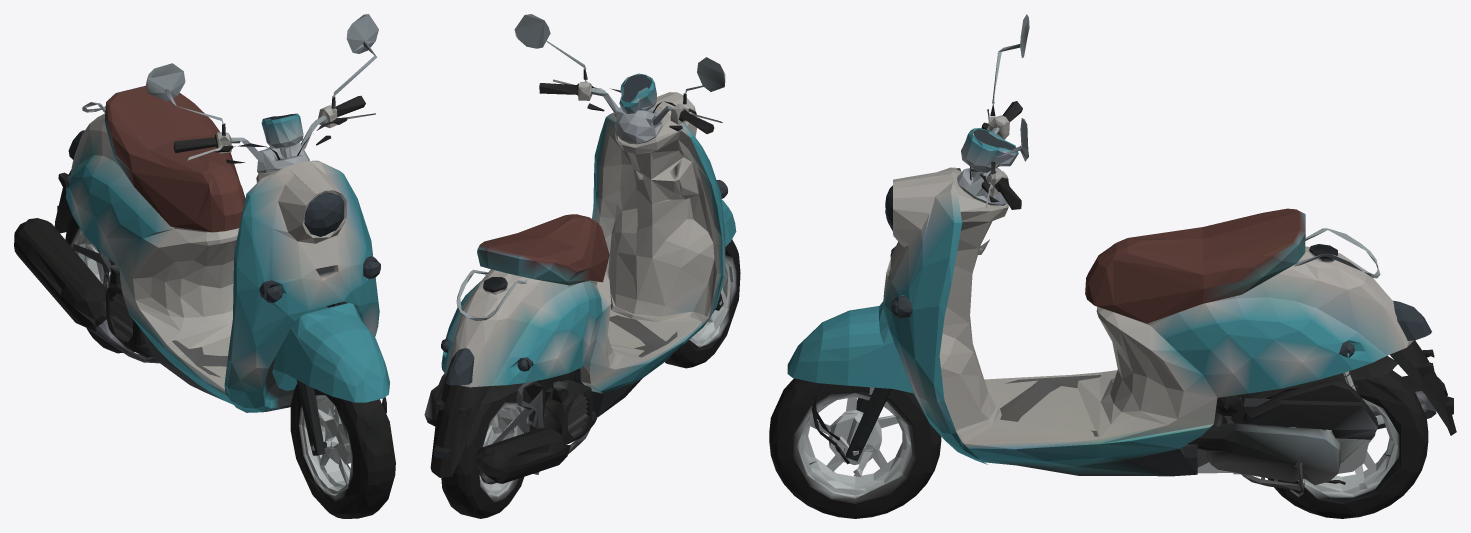
Rendered from vino.lod.glb.
3 renders of one model, left to right at view 1: azimuth 30°, elevation 25°; view 2: azimuth 150°, elevation 25°; view 3: azimuth 270°, elevation 25°, orthographic. The views are drawn at different scales.
Parts seen in each view (by area): view 1: lod_body, lod_glass; view 2: lod_body, lod_glass; view 3: lod_body, lod_glass.
Boxes of the visible parts, x1=… form: lod_body: x1=14, y1=14, x2=395, y2=518; lod_glass: x1=64, y1=114, x2=380, y2=302; lod_body: x1=424, y1=14, x2=740, y2=518; lod_glass: x1=434, y1=74, x2=727, y2=459; lod_body: x1=769, y1=14, x2=1456, y2=518; lod_glass: x1=885, y1=129, x2=1431, y2=357.
Bounding box in the file's own units: 0.6782 × 1.16 × 1.61.
